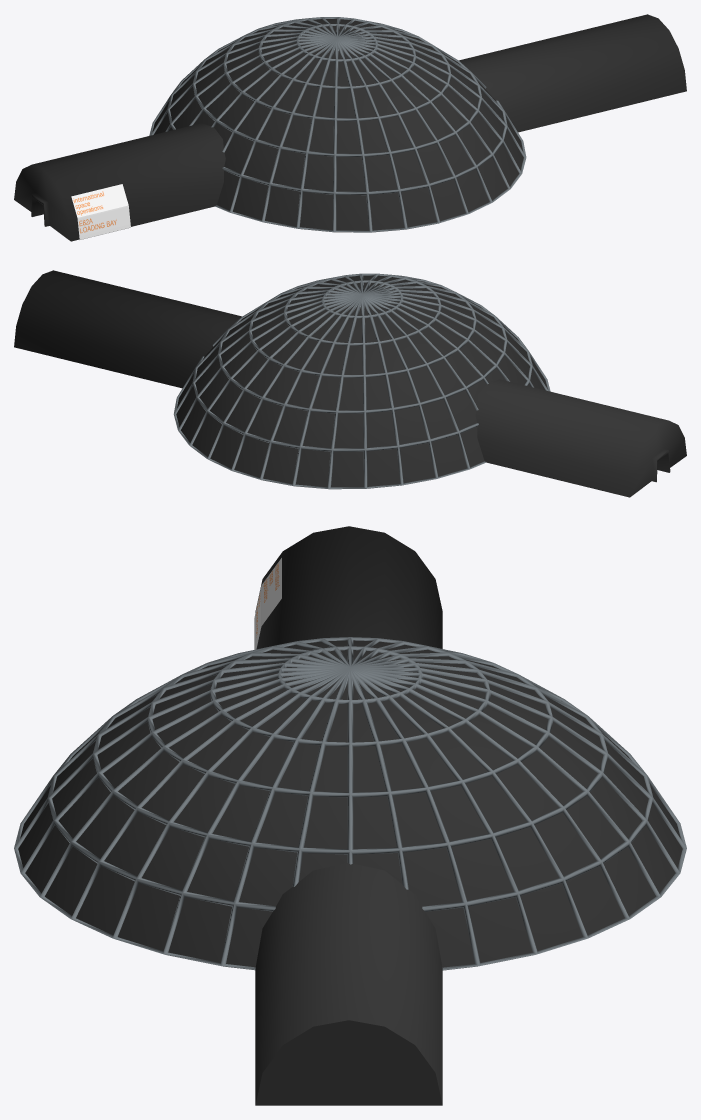
The model's file is international_space_station.fbx.
3 renders of one model, top to bottom at view 1: azimuth 30°, elevation 25°; view 2: azimuth 150°, elevation 25°; view 3: azimuth 270°, elevation 25°, orthographic. The views are drawn at different scales.
Visible parts, largest first — view 1: Cylinder.001, Cylinder, Cylinder.002, spaceOperationsLogo; view 2: Cylinder.001, Cylinder, Cylinder.002; view 3: Cylinder.001, Cylinder, Cylinder.002, spaceOperationsLogo.
Boxes of the visible parts, <box> form: Cylinder.001: <box>152,19,523,232</box>; Cylinder: <box>14,14,686,241</box>; Cylinder.002: <box>149,17,526,232</box>; spaceOperationsLogo: <box>71,184,130,239</box>; Cylinder.001: <box>176,275,547,488</box>; Cylinder: <box>14,270,686,497</box>; Cylinder.002: <box>173,273,550,489</box>; Cylinder.001: <box>18,640,682,970</box>; Cylinder: <box>255,526,442,1105</box>; Cylinder.002: <box>14,637,686,970</box>; spaceOperationsLogo: <box>254,558,281,649</box>.
Bounding box in the file's own units: 1044 × 179 × 597.
